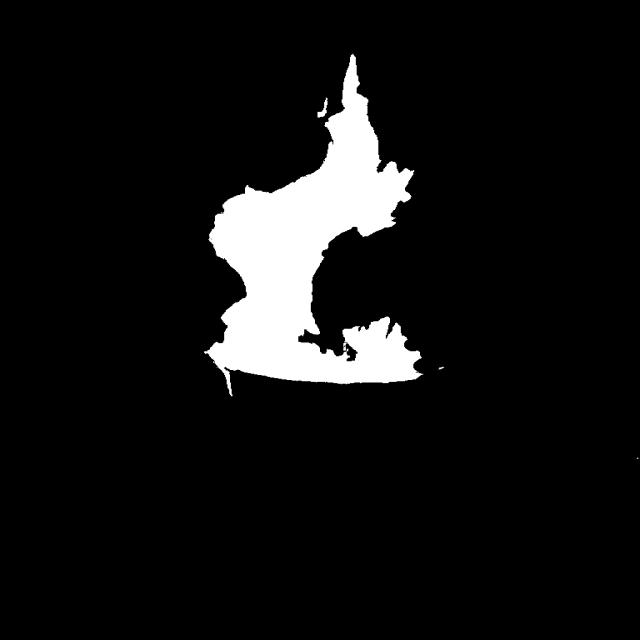fire: (227, 44, 492, 426)
